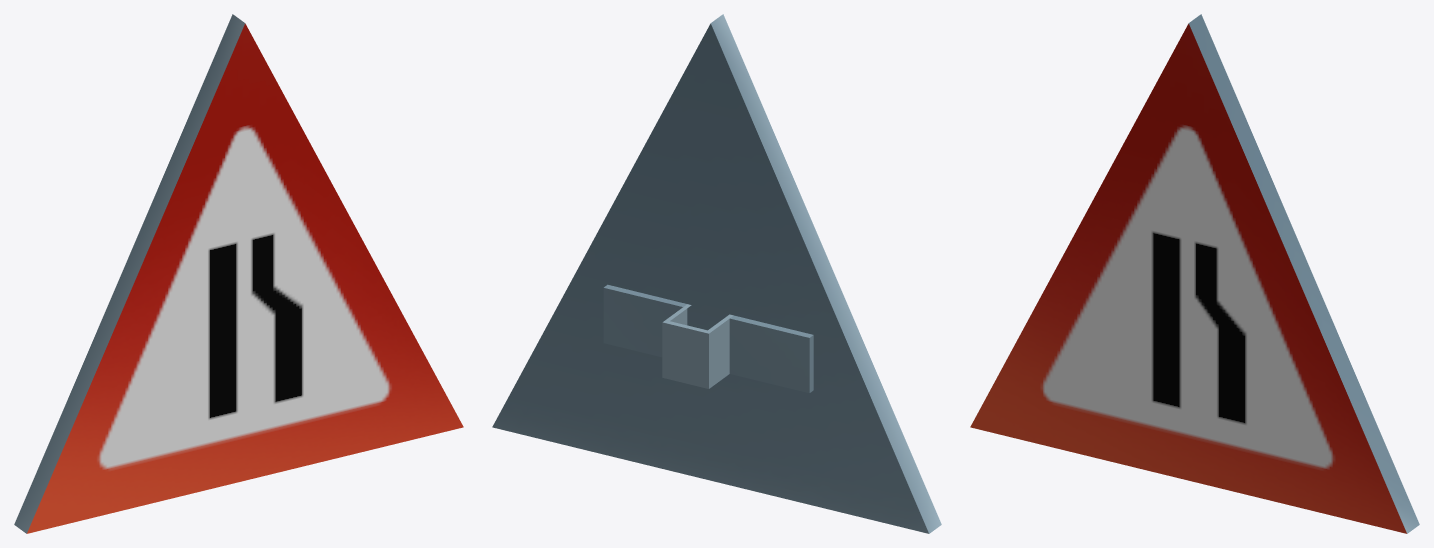
File: Sign17Austrian.fbx
3 renders of one model, left to right at view 1: azimuth 30°, elevation 25°; view 2: azimuth 150°, elevation 25°; view 3: azimuth 330°, elevation 25°, orthographic.
Parts seen in each view (by area): view 1: Sign17Austrian; view 2: Sign17Austrian; view 3: Sign17Austrian.
Boxes of the visible parts, <box> form: Sign17Austrian: <box>14,14,463,533</box>; Sign17Austrian: <box>492,14,941,533</box>; Sign17Austrian: <box>970,14,1419,533</box>.
Size of the model in its own units: 1 by 1 by 0.1489.
